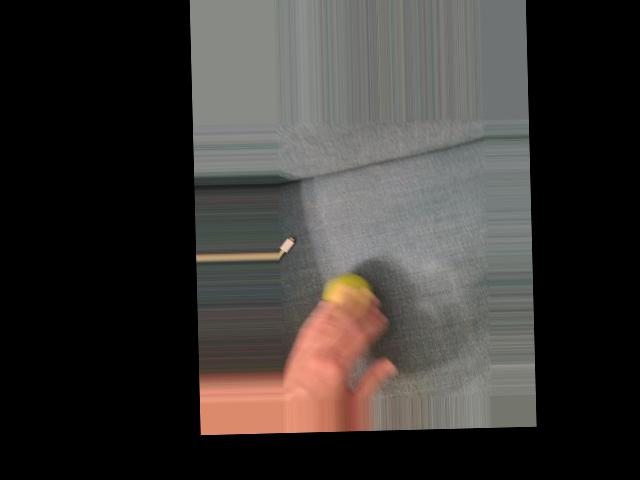apple: (312, 256, 380, 344)
